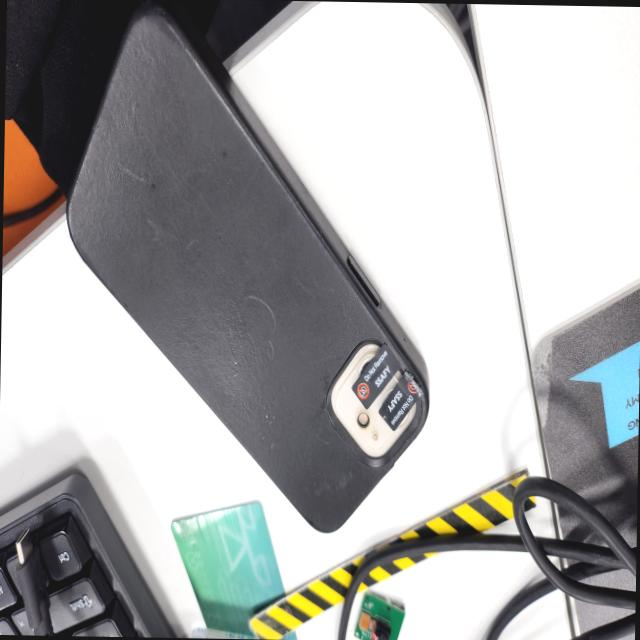phone: (60, 6, 438, 534)
sticker: (349, 344, 396, 408), (377, 374, 418, 428)
